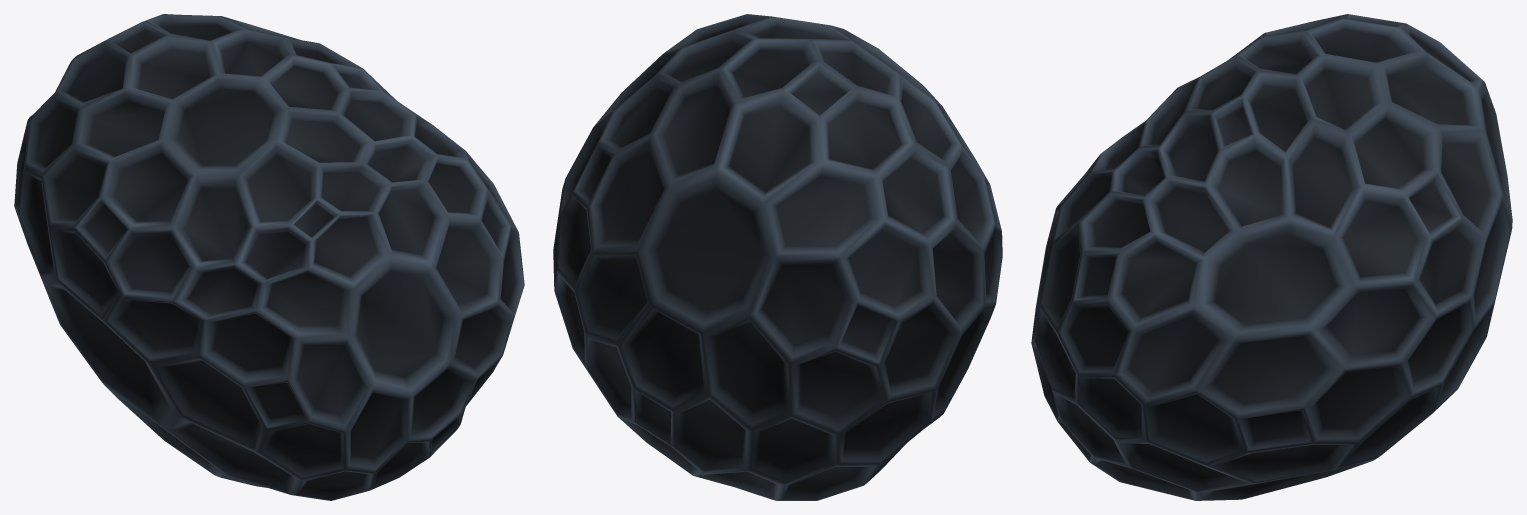
File: trees-seeds-nuts-poppy-seed_v2.glb
3 views of the same model, side by side, from view 1: azimuth 30°, elevation 25°; view 2: azimuth 150°, elevation 25°; view 3: azimuth 270°, elevation 25° (orthographic). The views are drawn at different scales.
Parts seen in each view (by area): view 1: Poppy Seed_v2; view 2: Poppy Seed_v2; view 3: Poppy Seed_v2.
Boxes of the visible parts, bbox=[...] form: Poppy Seed_v2: bbox=[14, 14, 524, 500]; Poppy Seed_v2: bbox=[553, 14, 1002, 500]; Poppy Seed_v2: bbox=[1031, 14, 1512, 500].
Bounding box in the file's own units: 0.098 × 0.0996 × 0.1.
